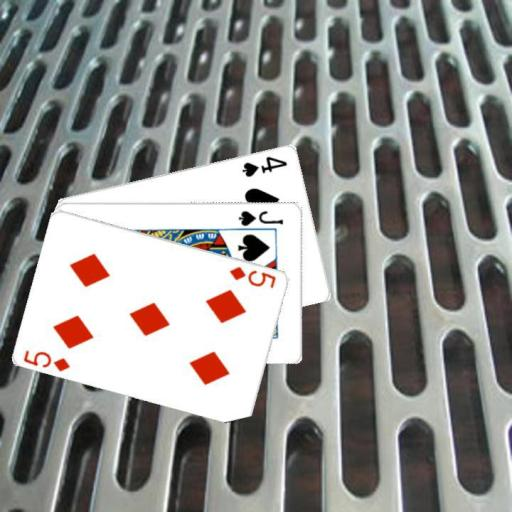4S: (239, 152, 289, 179)
5D: (227, 263, 278, 290), (21, 347, 72, 373)
JS: (236, 207, 285, 227)
